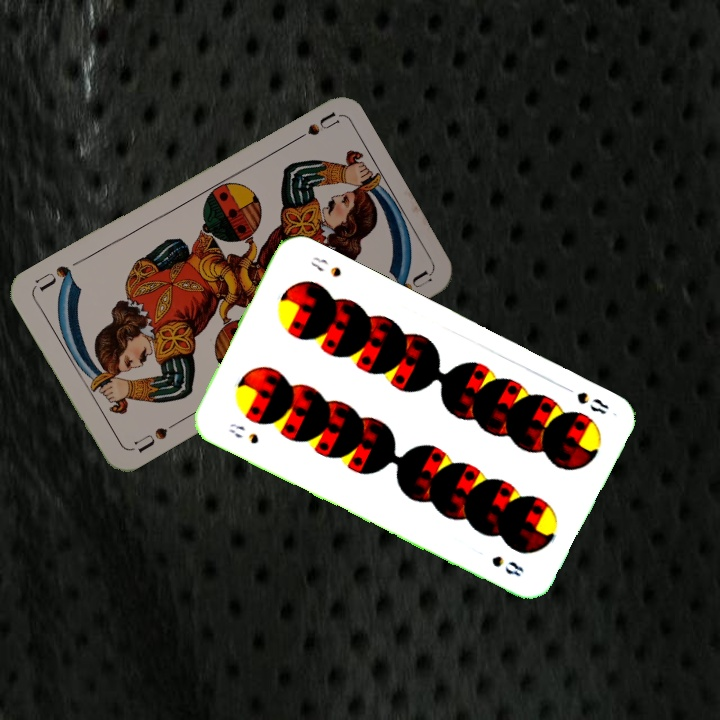S8: (558, 381, 611, 417), (225, 419, 261, 447)
SU: (284, 108, 340, 148), (130, 418, 180, 456)
